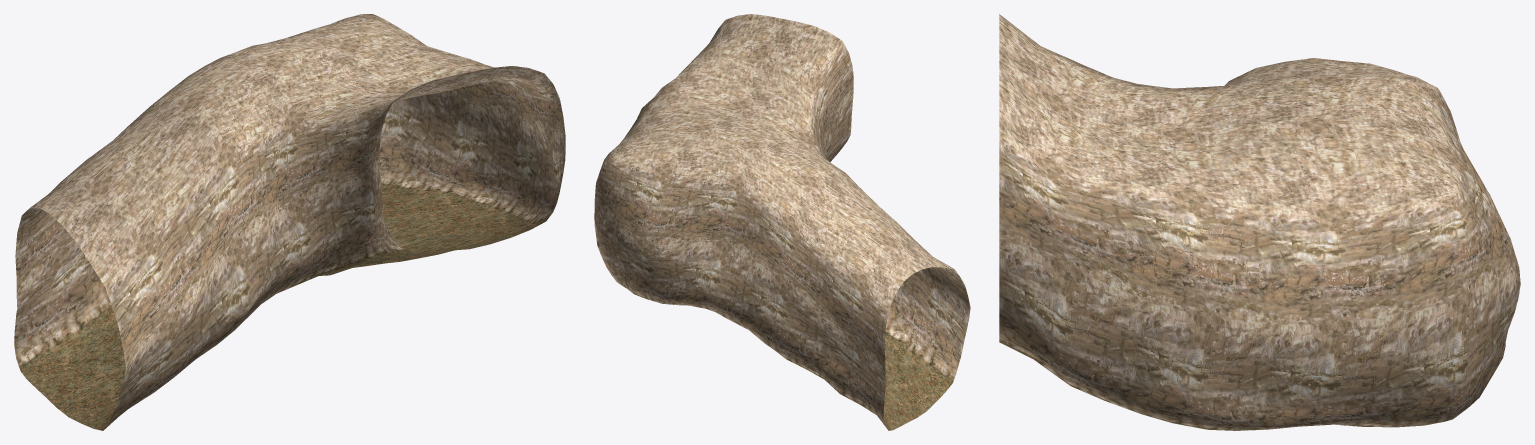
File: thm_all_cave_flatland_s01_r10_mesh_r10.fbx
3 views of the same model, side by side, from view 1: azimuth 30°, elevation 25°; view 2: azimuth 150°, elevation 25°; view 3: azimuth 270°, elevation 25° (orthographic). The views are drawn at different scales.
Parts seen in each view (by area): view 1: mesh_node; view 2: mesh_node; view 3: mesh_node.
Part boxes in pixels (left/top/right/bottom): mesh_node: left=14, top=14, right=565, bottom=430; mesh_node: left=594, top=14, right=970, bottom=430; mesh_node: left=999, top=14, right=1520, bottom=430.
Size of the model in its own units: 50.15 by 41.09 by 38.79.
